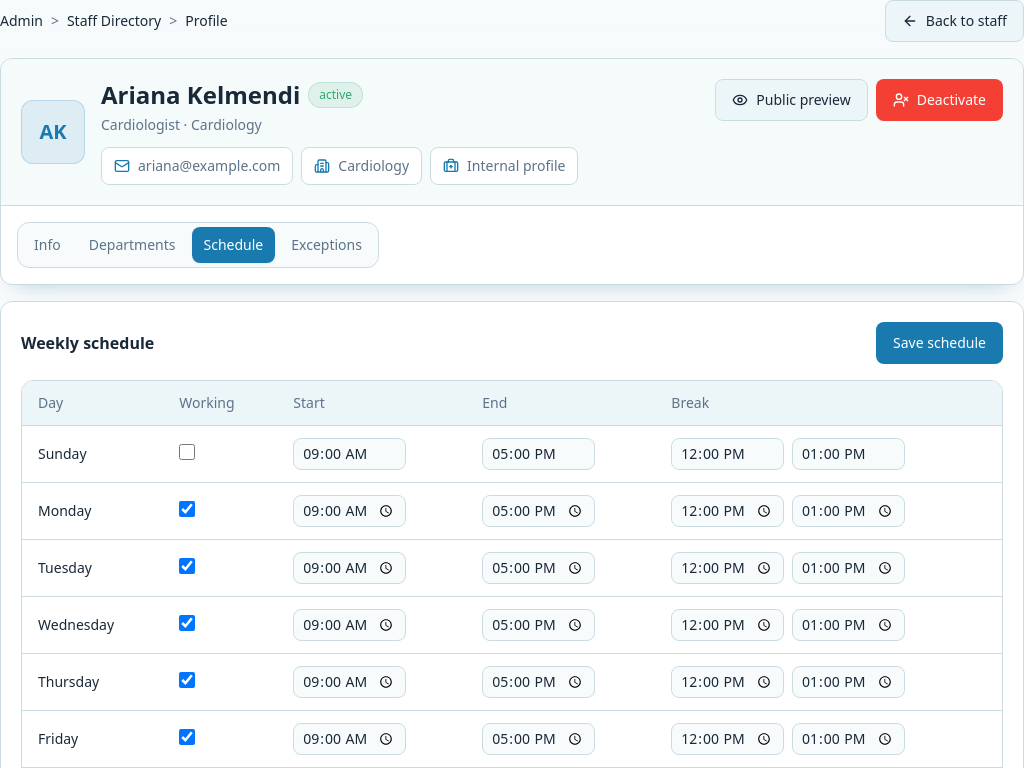
Test case: StaffProfilePage › loads the schedule tab from the URL and keeps tab changes in search params
The width and height of the screenshot is (1024, 768).
expect the heading "Weekly schedule" is shown: met, box left=21, top=331, right=154, bottom=355
Click the button "Exceptions": (327, 245) left=279, top=227, right=374, bottom=263
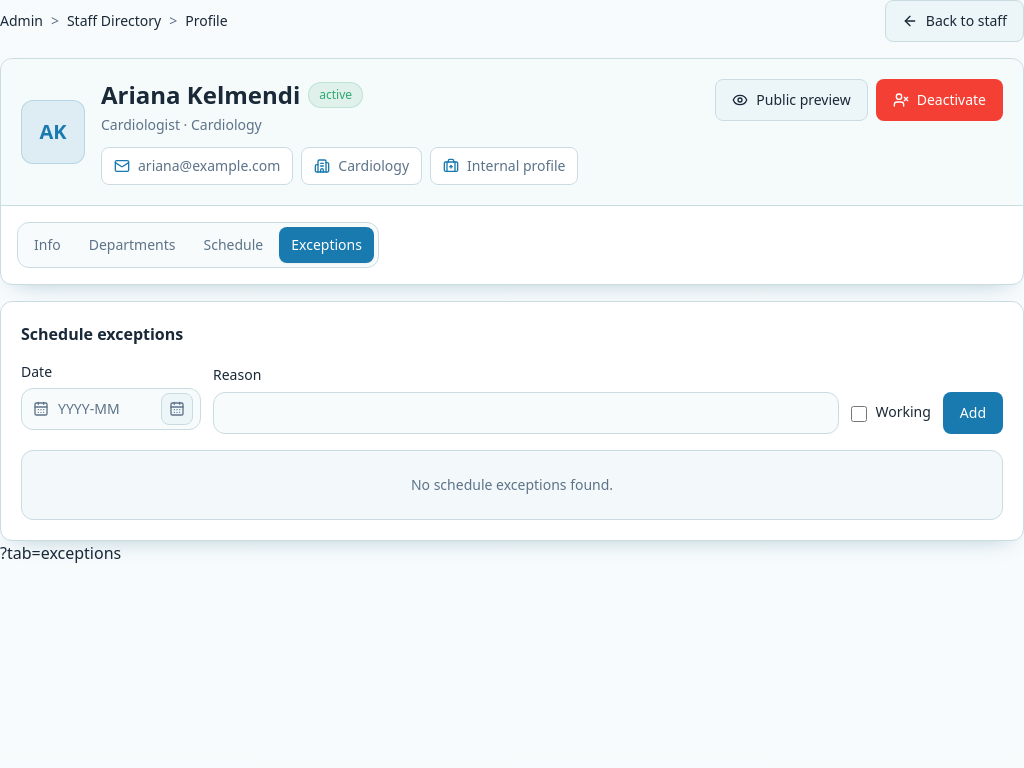
expect the heading "Schedule exceptions" is shown: met, box left=21, top=323, right=183, bottom=345
expect the text with test id "location" reads "?tab=exceptions": met, box left=0, top=542, right=121, bottom=564
